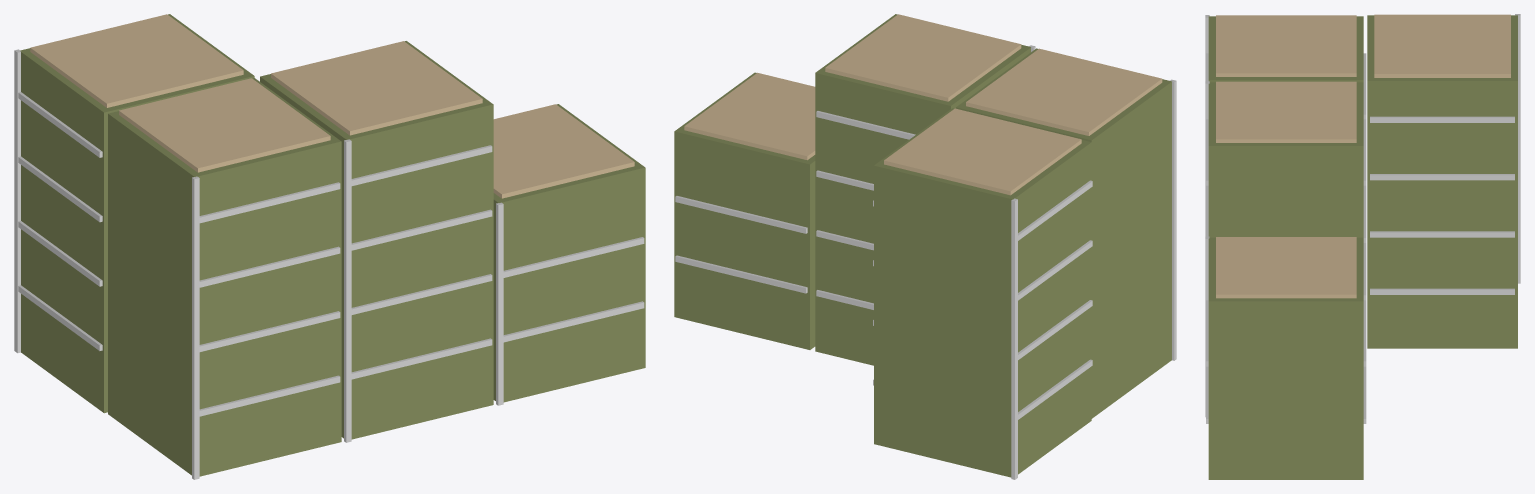
The model's file is SM_HescoRemate_v2_Escalonado_e0_Sano_LOD0.fbx.
3 renders of one model, left to right at view 1: azimuth 30°, elevation 25°; view 2: azimuth 150°, elevation 25°; view 3: azimuth 270°, elevation 25°, orthographic. The views are drawn at different scales.
Parts seen in each view (by area): view 1: SM_hesco_piezas_v28_LOD0; view 2: SM_hesco_piezas_v28_LOD0; view 3: SM_hesco_piezas_v28_LOD0.
Part boxes in pixels (x1,y1,x2,y2): SM_hesco_piezas_v28_LOD0: (14,14,645,479); SM_hesco_piezas_v28_LOD0: (674,14,1176,479); SM_hesco_piezas_v28_LOD0: (1205,14,1520,479).
Size of the model in its own units: 3.33 by 2.13 by 2.24.
